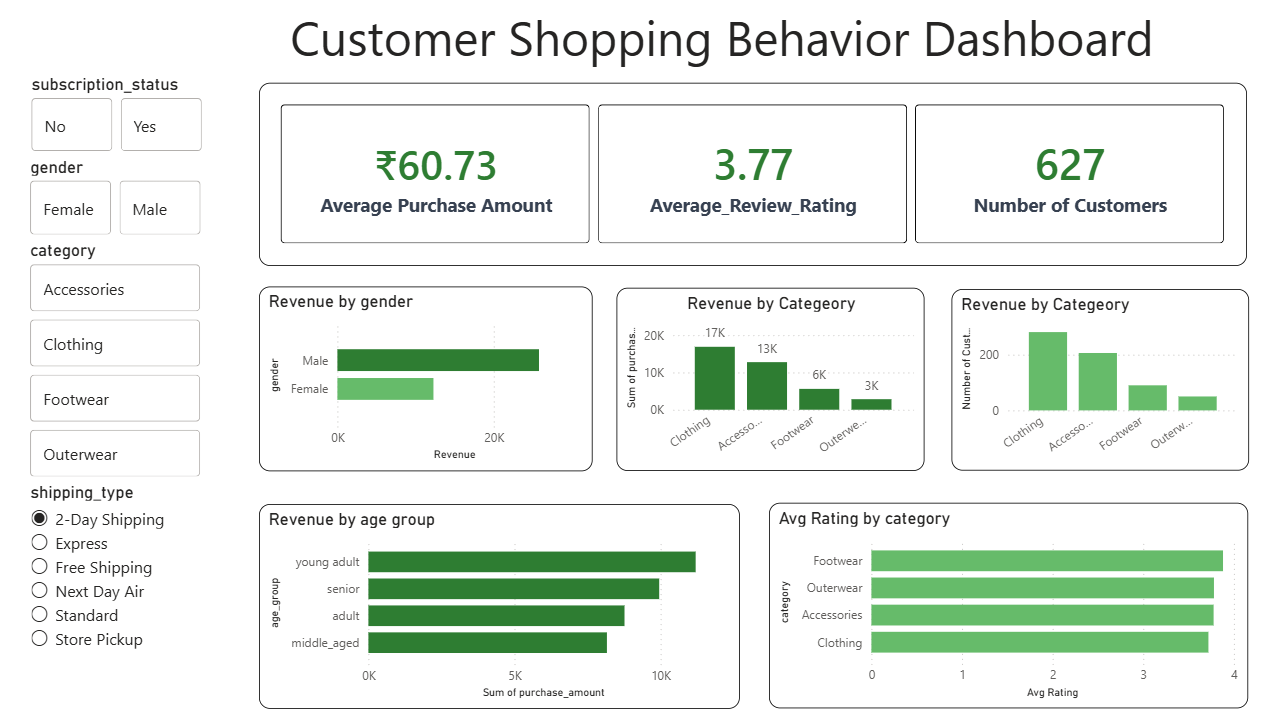

Layout of this report page (visuals, bound fields, positions):
{"tool":"powerbi","page":{"name":"Page 1","canvas":[1280,720],"ordinal":0},"visuals":[{"type":"cardVisual","fields":{"Data":["customer_behaviour customer_behaviour (2).Average Purchase Amount","customer_behaviour customer_behaviour (2).Average_Review_Rating","customer_behaviour customer_behaviour (2).Number of Customers"]},"box":[259.7,83.7,988.3,183.2],"z":1000},{"type":"textbox","box":[259.7,0,988.3,75],"z":2000},{"type":"columnChart","title":"Revenue by Categeory","fields":{"Y":["Sum(customer_behaviour customer_behaviour (2).purchase_amount)"],"Category":["customer_behaviour customer_behaviour (2).category"]},"box":[617.2,288.8,308,183.4],"z":3000},{"type":"columnChart","title":"Revenue by Categeory","fields":{"Y":["customer_behaviour customer_behaviour (2).Number of Customers"],"Category":["customer_behaviour customer_behaviour (2).category"]},"box":[952.2,290,297.2,181.8],"z":4000},{"type":"advancedSlicerVisual","fields":{"Values":["customer_behaviour customer_behaviour (2).subscription_status"]},"box":[27.5,75,180,82.5],"z":5000},{"type":"advancedSlicerVisual","fields":{"Values":["customer_behaviour customer_behaviour (2).category"]},"box":[26.2,241.2,180,241.2],"z":6000},{"type":"advancedSlicerVisual","fields":{"Values":["customer_behaviour customer_behaviour (2).gender"]},"box":[26.2,157.5,180,83.8],"z":7000},{"type":"listSlicer","fields":{"Values":["customer_behaviour customer_behaviour (2).shipping_type"]},"box":[26.2,482.5,180,227.5],"z":8000},{"type":"clusteredBarChart","title":"Revenue by age group","fields":{"Y":["Sum(customer_behaviour customer_behaviour (2).purchase_amount)"],"Category":["customer_behaviour customer_behaviour (2).age_group"]},"box":[259.7,505,480.4,204.9],"z":9000},{"type":"clusteredBarChart","fields":{"Category":["customer_behaviour customer_behaviour (2).gender"],"Y":["customer_behaviour customer_behaviour (2).Revenue"]},"box":[259.7,287.1,333.3,184.7],"z":10000},{"type":"clusteredBarChart","fields":{"Y":["customer_behaviour customer_behaviour (2).Avg Rating"],"Category":["customer_behaviour customer_behaviour (2).category"]},"box":[769.7,503.3,479.3,205.8],"z":11000}]}

Visuals, with their boxes in screenshot pixels (x1, y1, x2, y2), scaled from the page's 1280x720 canvas onto the 1276x715 screenshot:
cardVisual - customer_behaviour customer_behaviour (2).Average Purchase Amount x customer_behaviour customer_behaviour (2).Average_Review_Rating: [259,83,1244,265]
textbox: [259,0,1244,74]
"Revenue by Categeory" columnChart: [615,287,922,469]
"Revenue by Categeory" columnChart: [949,288,1245,469]
advancedSlicerVisual - customer_behaviour customer_behaviour (2).subscription_status: [27,74,207,156]
advancedSlicerVisual - customer_behaviour customer_behaviour (2).category: [26,240,206,479]
advancedSlicerVisual - customer_behaviour customer_behaviour (2).gender: [26,156,206,240]
listSlicer - customer_behaviour customer_behaviour (2).shipping_type: [26,479,206,705]
"Revenue by age group" clusteredBarChart: [259,501,738,705]
clusteredBarChart - customer_behaviour customer_behaviour (2).gender x customer_behaviour customer_behaviour (2).Revenue: [259,285,591,469]
clusteredBarChart - customer_behaviour customer_behaviour (2).Avg Rating x customer_behaviour customer_behaviour (2).category: [767,500,1245,704]
